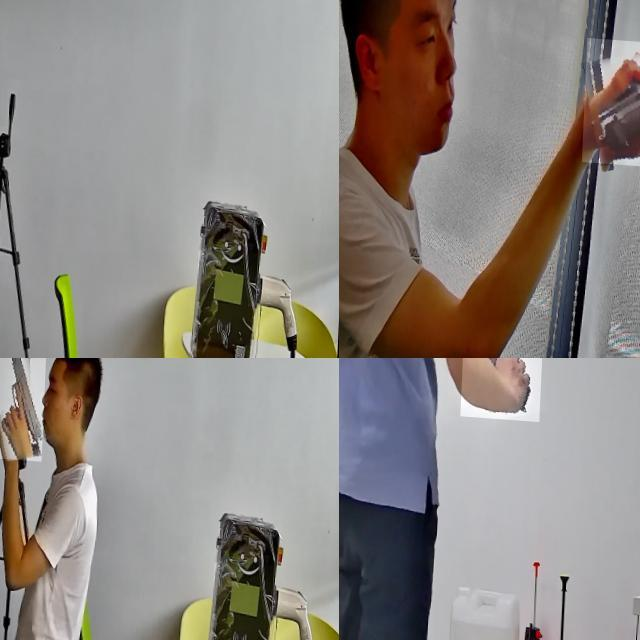gun-knife-thesis - v11 Yolov5 augmented: (583, 33, 640, 166), (463, 358, 547, 442), (0, 358, 48, 456), (0, 0, 26, 98)
